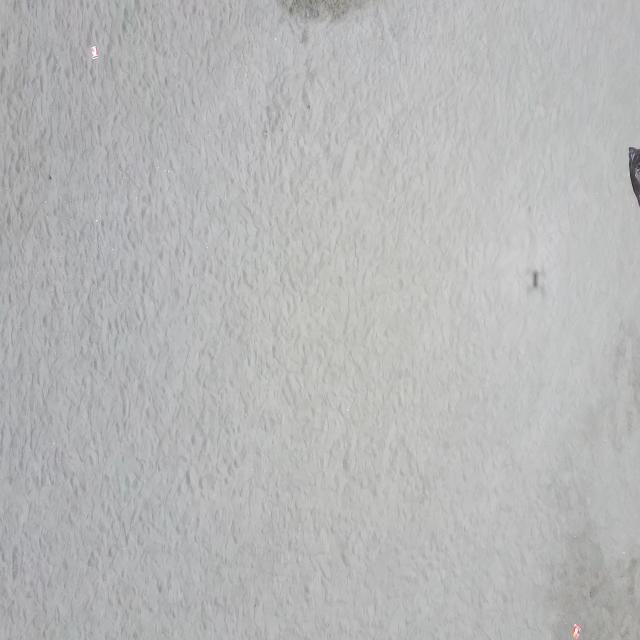Garbage: (628, 147, 639, 203)
